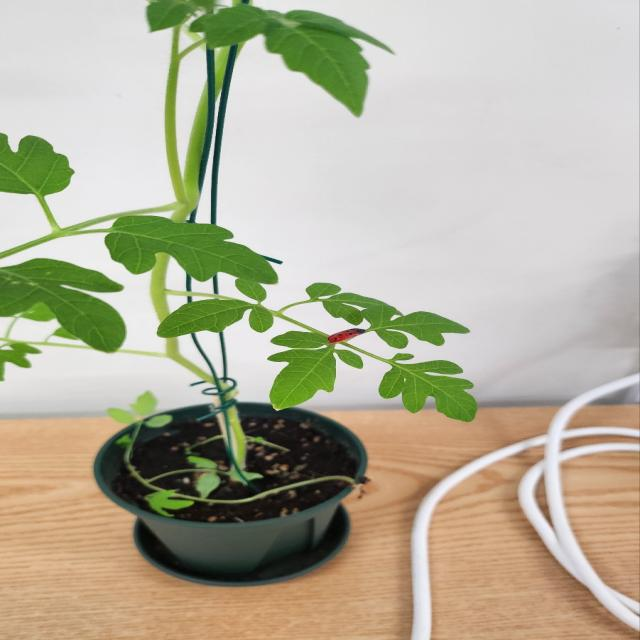bug: (302, 319, 392, 354)
